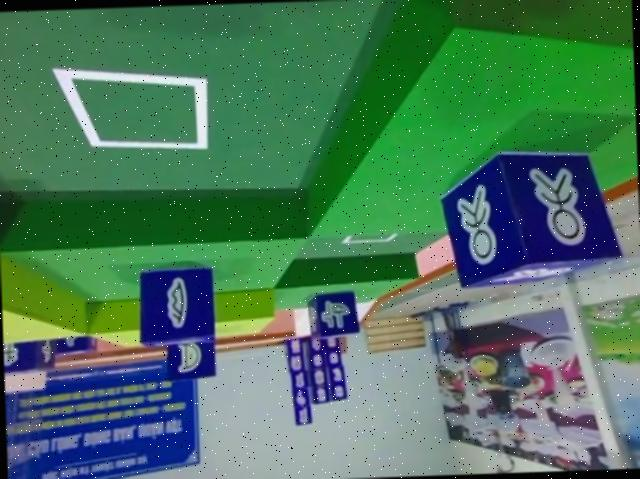R2 Real Blue: (440, 144, 622, 285), (139, 265, 221, 349), (310, 290, 363, 339), (166, 333, 219, 379), (4, 335, 54, 374)
